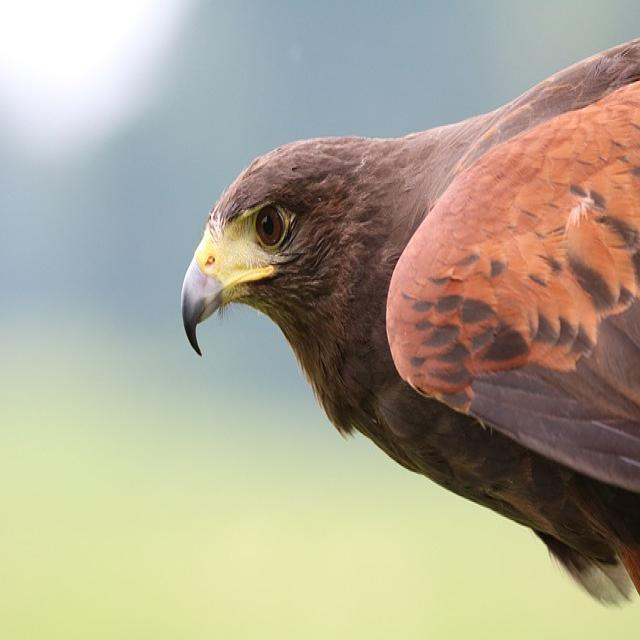Carnivorous: (180, 37, 640, 610)
